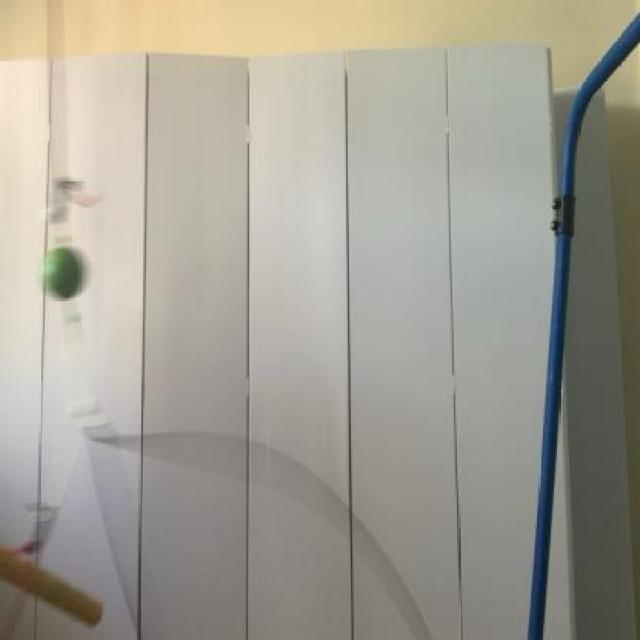baseball: (38, 231, 91, 312)
